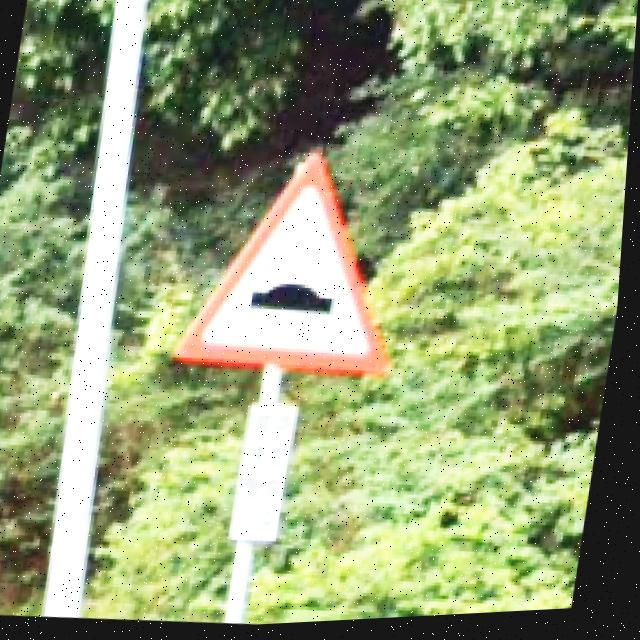hump: (178, 156, 394, 376)
